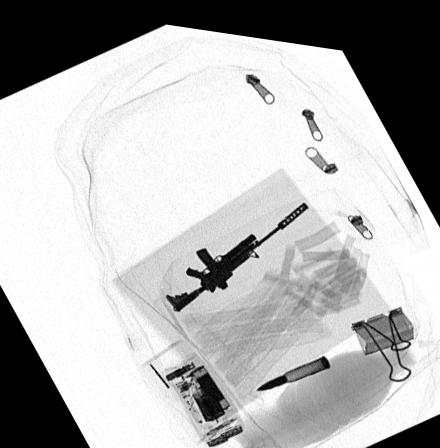Bullet: (254, 346, 330, 383)
Gun: (164, 192, 309, 309)
